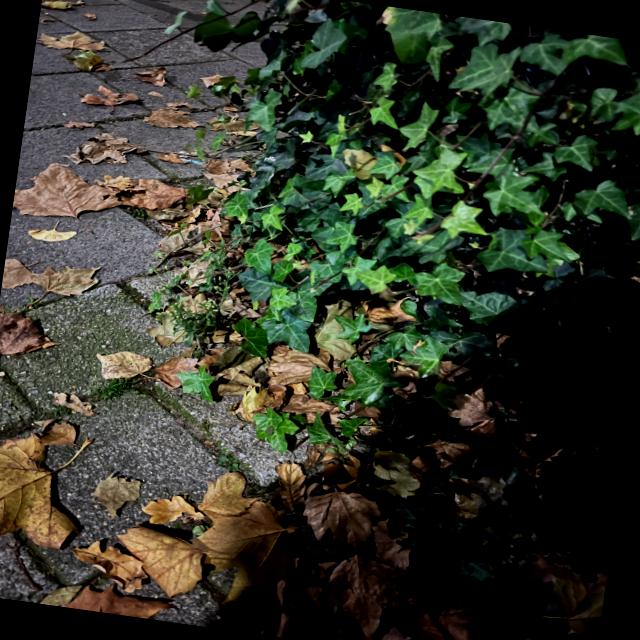leaves: (81, 458, 542, 640), (13, 51, 200, 220), (98, 173, 182, 219)
pavement: (6, 206, 179, 396)
plants: (179, 0, 640, 640)
